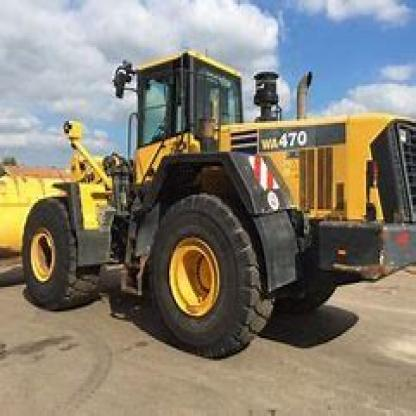bull_dozer/loader/grader: (3, 47, 414, 361)
